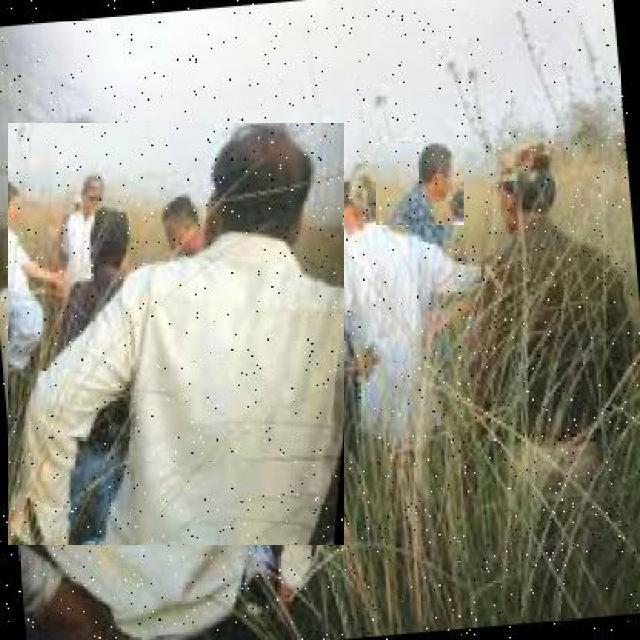poacher: (8, 123, 344, 545), (480, 114, 585, 442), (329, 163, 414, 383), (376, 143, 464, 225), (234, 172, 297, 225)
